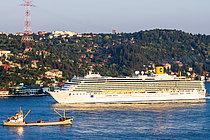Ship: (47, 64, 210, 110)
